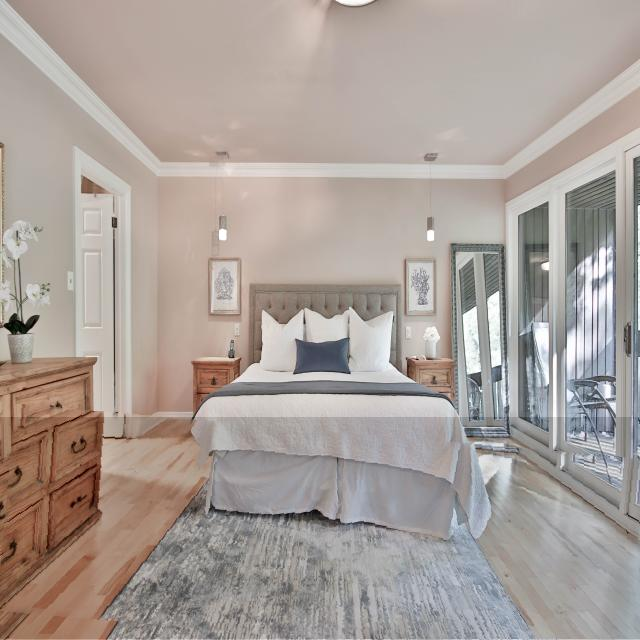floor: (0, 418, 640, 640)
